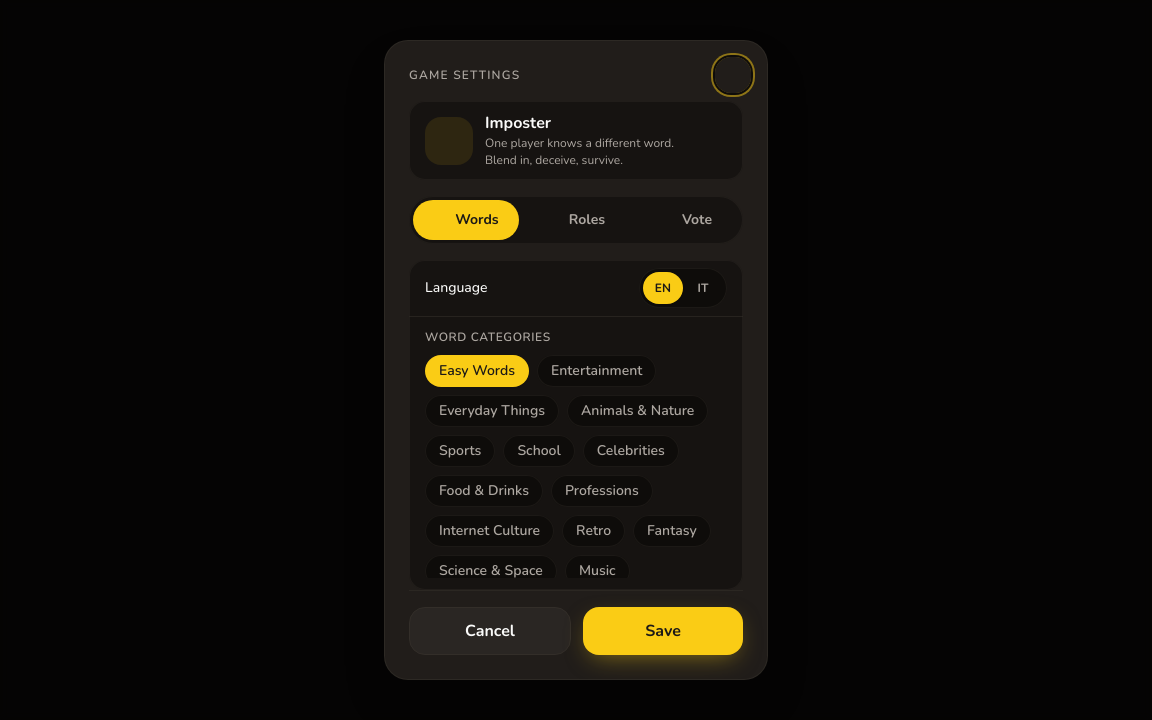
Test: GameSettingsModal › opens the game picker with future modes disabled
Click the button with aria-label "change game mode" at (576, 140), box [409, 101, 743, 180]
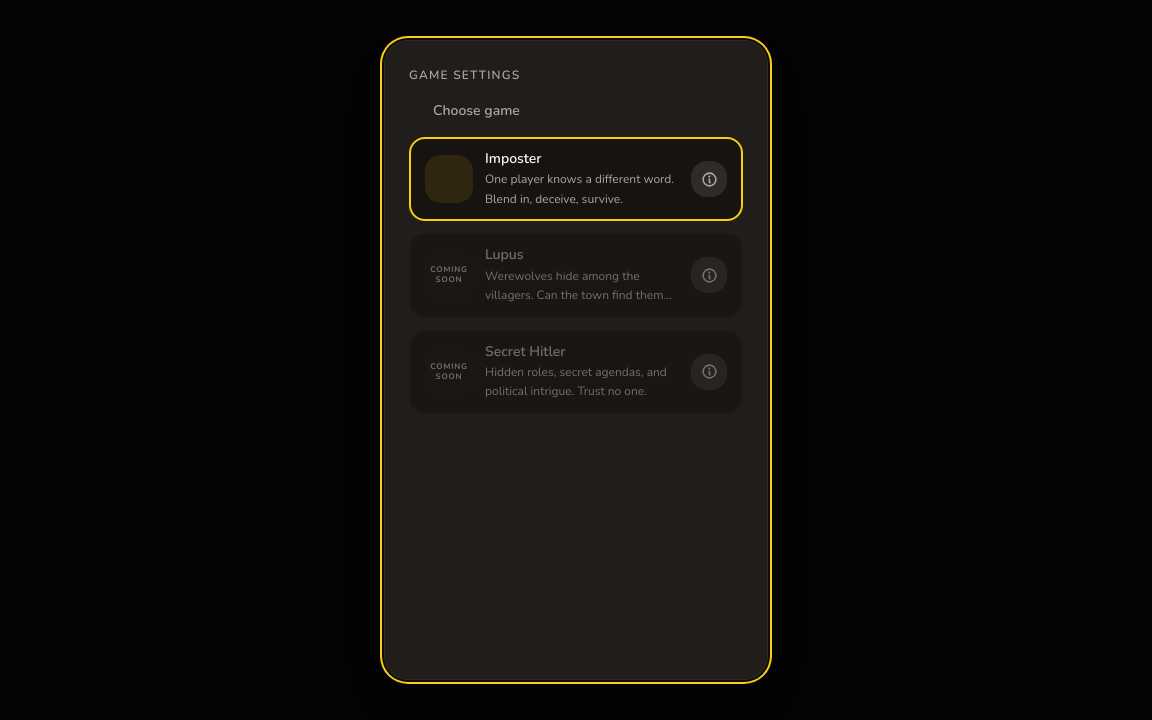
Expected: the text "Choose game" is shown, [433, 101, 520, 121]
